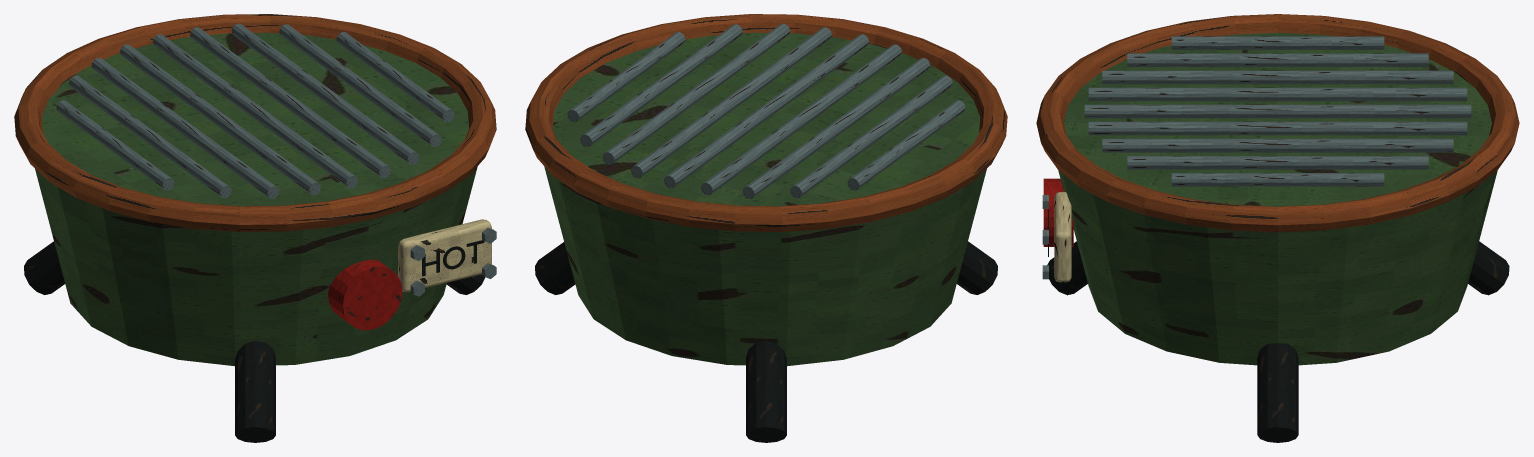
Rendered from eq-fieldstove.glb.
3 renders of one model, left to right at view 1: azimuth 30°, elevation 25°; view 2: azimuth 150°, elevation 25°; view 3: azimuth 270°, elevation 25°, orthographic.
Parts seen in each view (by area): view 1: Bowl, Rolled rim, Cream inset.003, Valve, Foot.002, Grate.004, Grate.003, Grate.005, Grate.006, Grate.002, Grate.001, Grate.007 (+5 smaller); view 2: Bowl, Rolled rim, Foot.001, Grate.004, Grate.003, Grate.005, Grate.006, Grate.002, Grate.001, Grate.007, Grate, Grate.008 (+2 smaller); view 3: Bowl, Rolled rim, Grate.004, Grate.003, Grate.005, Grate.002, Grate.006, Grate.001, Grate.007, Foot, Grate, Grate.008 (+4 smaller).
Boxes of the visible parts, x1=… form: Bowl: x1=35, y1=32, x2=477, y2=366; Rolled rim: x1=14, y1=14, x2=496, y2=231; Cream inset.003: x1=398, y1=219, x2=491, y2=292; Valve: x1=328, y1=259, x2=402, y2=330; Foot.002: x1=235, y1=341, x2=275, y2=442; Grate.004: x1=153, y1=34, x2=358, y2=188; Grate.003: x1=120, y1=44, x2=320, y2=195; Grate.005: x1=190, y1=27, x2=390, y2=178; Grate.006: x1=231, y1=23, x2=419, y2=164; Grate.002: x1=91, y1=58, x2=279, y2=198; Grate.001: x1=69, y1=75, x2=231, y2=198; Grate.007: x1=279, y1=24, x2=441, y2=146; Bowl: x1=544, y1=32, x2=986, y2=366; Rolled rim: x1=525, y1=14, x2=1007, y2=231; Foot.001: x1=746, y1=341, x2=786, y2=442; Grate.004: x1=663, y1=34, x2=868, y2=188; Grate.003: x1=701, y1=44, x2=901, y2=195; Grate.005: x1=631, y1=27, x2=831, y2=178; Grate.006: x1=602, y1=23, x2=790, y2=164; Grate.002: x1=742, y1=58, x2=930, y2=198; Grate.001: x1=790, y1=75, x2=952, y2=198; Grate.007: x1=580, y1=24, x2=742, y2=146; Grate: x1=847, y1=100, x2=965, y2=190; Grate.008: x1=567, y1=32, x2=685, y2=122; Bowl: x1=1058, y1=32, x2=1497, y2=365; Rolled rim: x1=1036, y1=14, x2=1519, y2=232; Grate.004: x1=1084, y1=104, x2=1471, y2=118; Grate.003: x1=1088, y1=87, x2=1467, y2=101; Grate.005: x1=1088, y1=121, x2=1467, y2=135; Grate.002: x1=1102, y1=70, x2=1453, y2=84; Grate.006: x1=1102, y1=138, x2=1453, y2=152; Grate.001: x1=1127, y1=53, x2=1428, y2=66; Grate.007: x1=1127, y1=156, x2=1428, y2=169; Foot: x1=1257, y1=343, x2=1298, y2=442; Grate: x1=1171, y1=36, x2=1384, y2=49; Grate.008: x1=1171, y1=173, x2=1384, y2=186.
Bounding box in the file's own units: 0.5872 × 0.3057 × 0.562.
6 materials, 6 textured.
